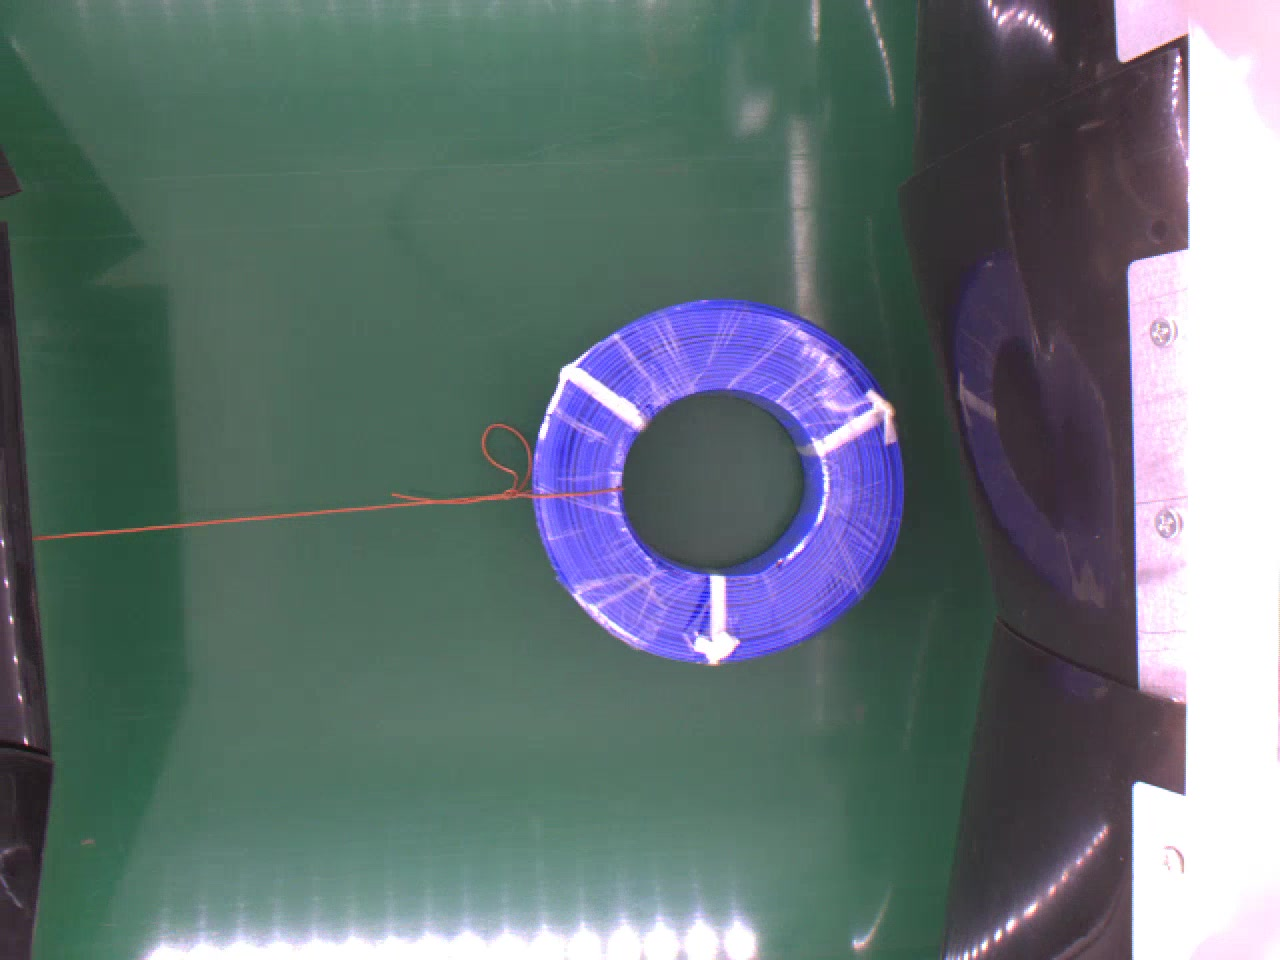blue: (523, 297, 915, 675)
